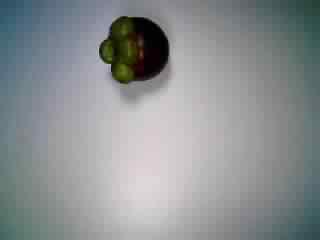mangosteen: (91, 13, 174, 88)
